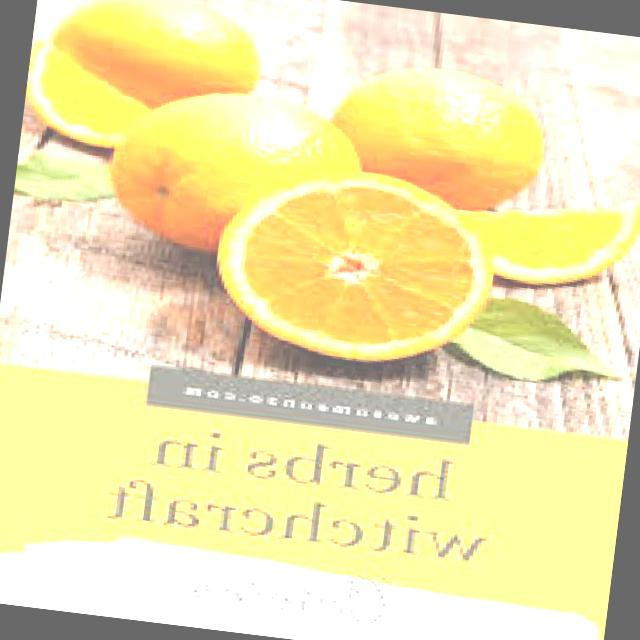Orange: (206, 152, 507, 376), (103, 77, 373, 269), (324, 54, 556, 216), (46, 0, 273, 119)
